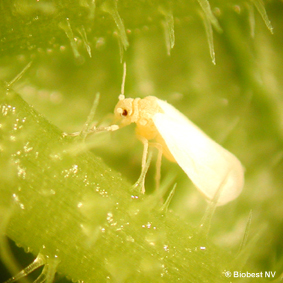whitefly: (75, 57, 245, 205)
